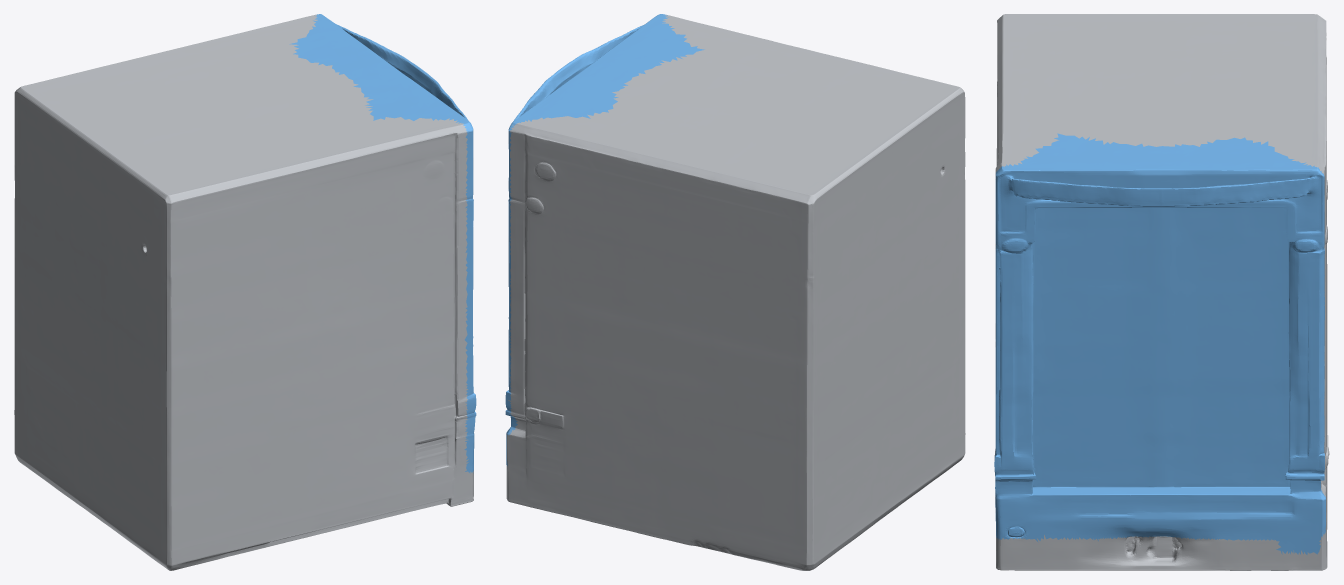
File: parts.glb
The picture shows the model from 3 angles, left to right: view 1: azimuth 30°, elevation 25°; view 2: azimuth 150°, elevation 25°; view 3: azimuth 270°, elevation 25°; orthographic projection. The views are drawn at different scales.
Visible parts, largest first — view 1: visual_0_0, visual_1_0; view 2: visual_0_0, visual_1_0; view 3: visual_1_0, visual_0_0.
Boxes of the visible parts, x1=… form: visual_0_0: x1=14, y1=14, x2=473, y2=570; visual_1_0: x1=289, y1=14, x2=476, y2=473; visual_0_0: x1=506, y1=15, x2=965, y2=570; visual_1_0: x1=505, y1=14, x2=704, y2=466; visual_1_0: x1=994, y1=133, x2=1325, y2=554; visual_0_0: x1=994, y1=14, x2=1329, y2=570.
Bounding box in the file's own units: 0.915 × 1 × 0.7612.
